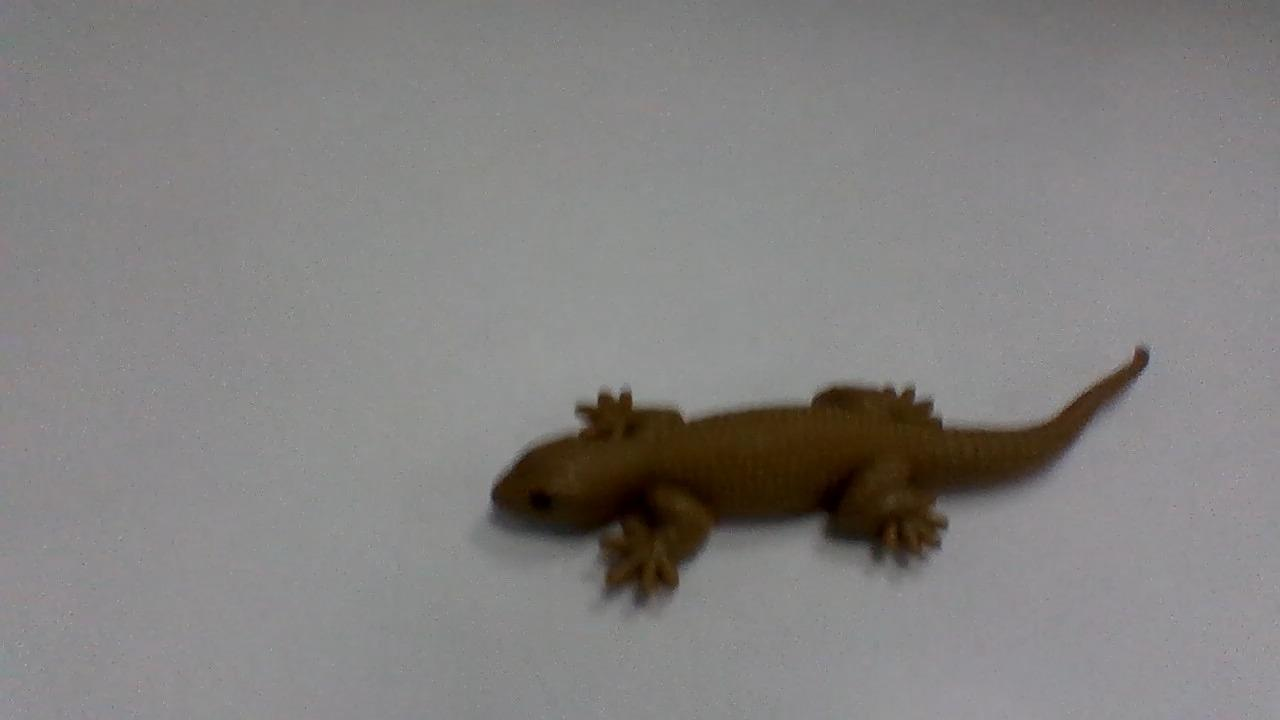lizard: (488, 350, 1147, 589)
